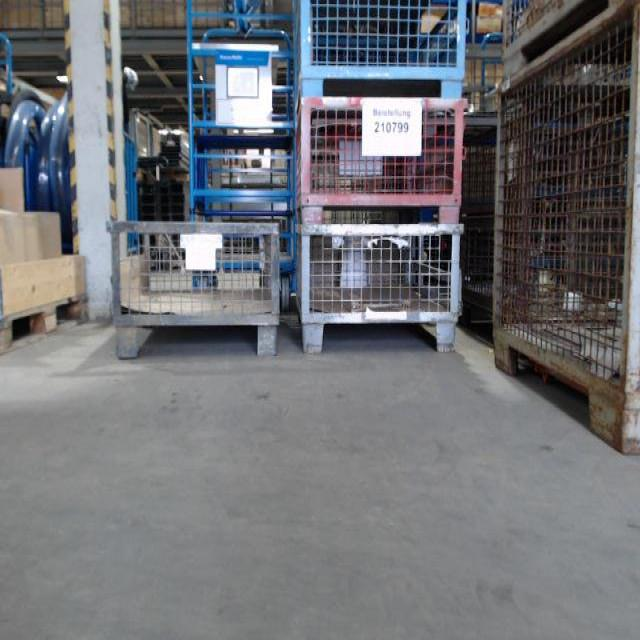pallet: (0, 292, 89, 360)
stillage: (494, 1, 640, 457), (287, 211, 463, 357), (111, 214, 282, 362), (287, 94, 473, 227), (291, 1, 476, 96), (495, 5, 609, 73)
